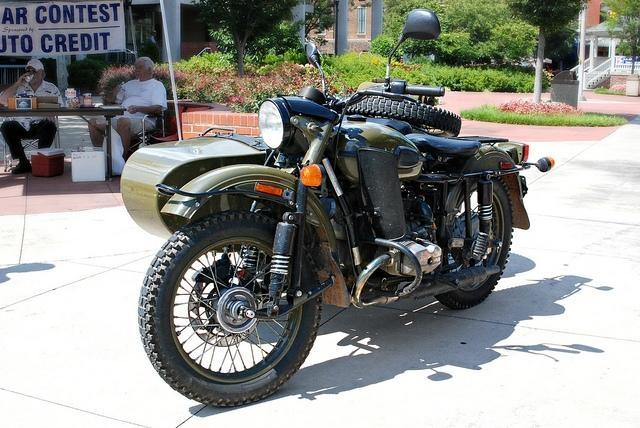motorcycle: (138, 5, 558, 414)
